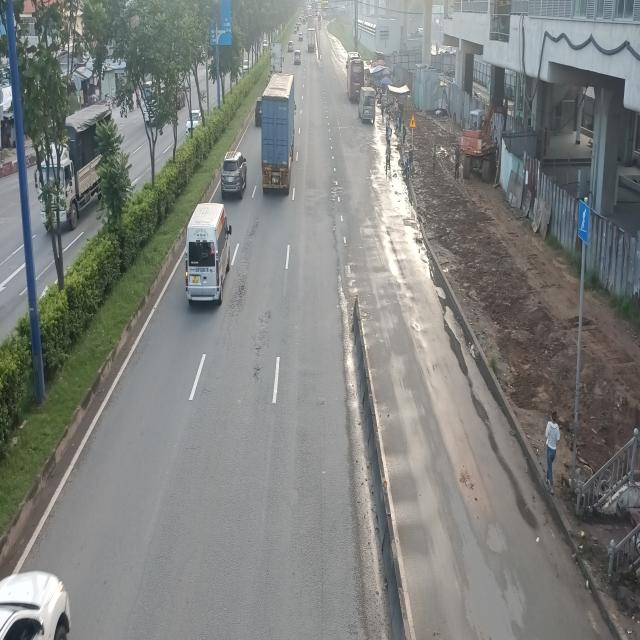car: (219, 152, 247, 201)
coach: (346, 55, 364, 100)
container: (262, 72, 297, 194)
van: (186, 204, 233, 308), (359, 87, 376, 122)
